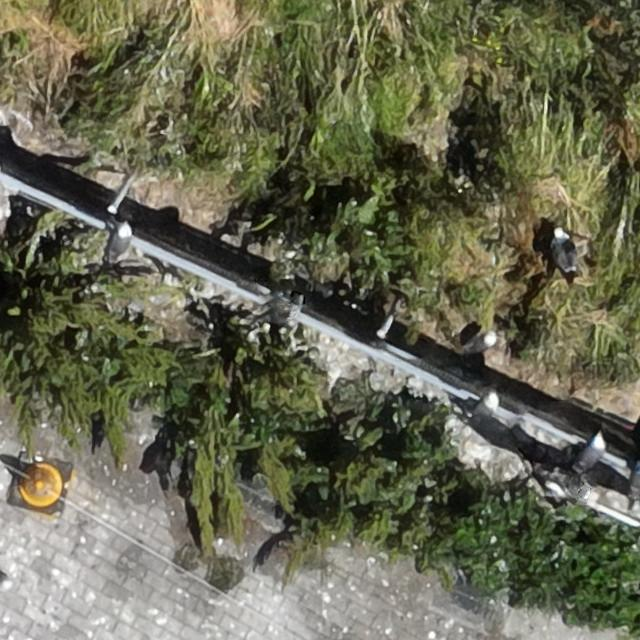umineko: (576, 436, 604, 470), (109, 224, 131, 260), (473, 395, 499, 425), (554, 232, 573, 269), (462, 333, 496, 353)
